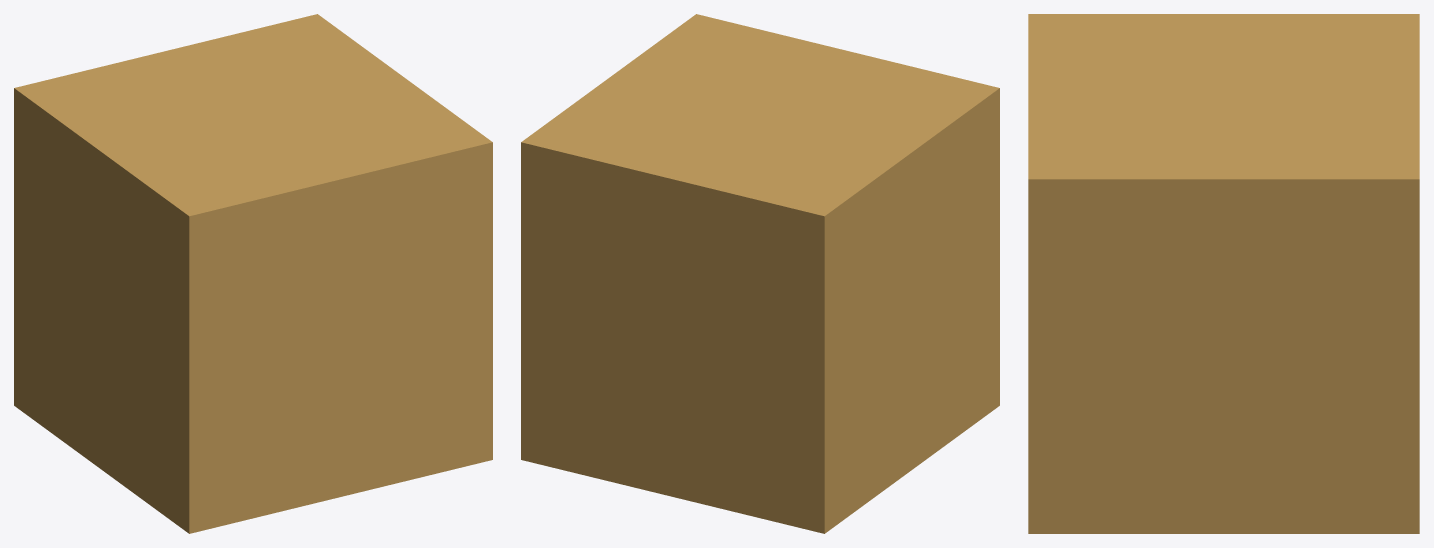
The model's file is sand.glb.
The picture shows the model from 3 angles, left to right: view 1: azimuth 30°, elevation 25°; view 2: azimuth 150°, elevation 25°; view 3: azimuth 270°, elevation 25°; orthographic projection. The views are drawn at different scales.
Visible parts, largest first — view 1: Block_Grass; view 2: Block_Grass; view 3: Block_Grass.
Part boxes in pixels (x1,y1,x2,y2): Block_Grass: (14, 14, 492, 533); Block_Grass: (521, 14, 999, 533); Block_Grass: (1028, 14, 1419, 533).
Size of the model in its own units: 2 by 2 by 2.
1 material, 1 textured.
